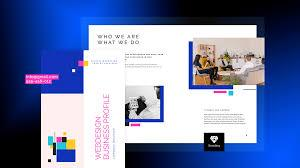paper: (41, 25, 265, 168)
